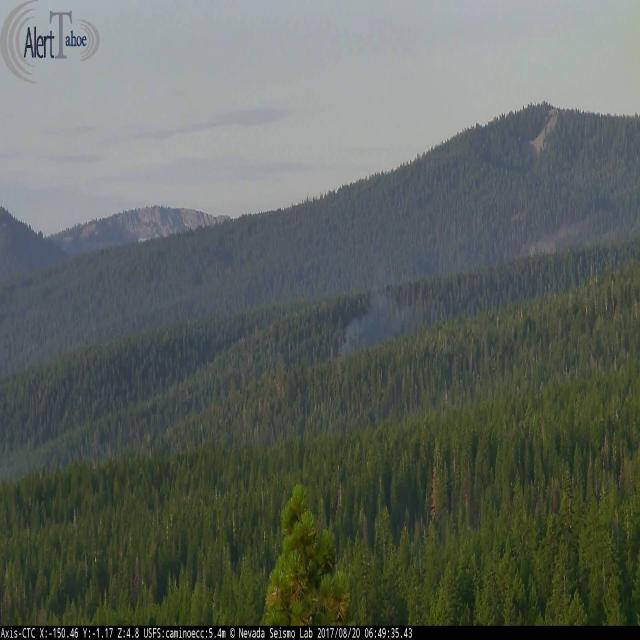smoke: (336, 262, 434, 348)
